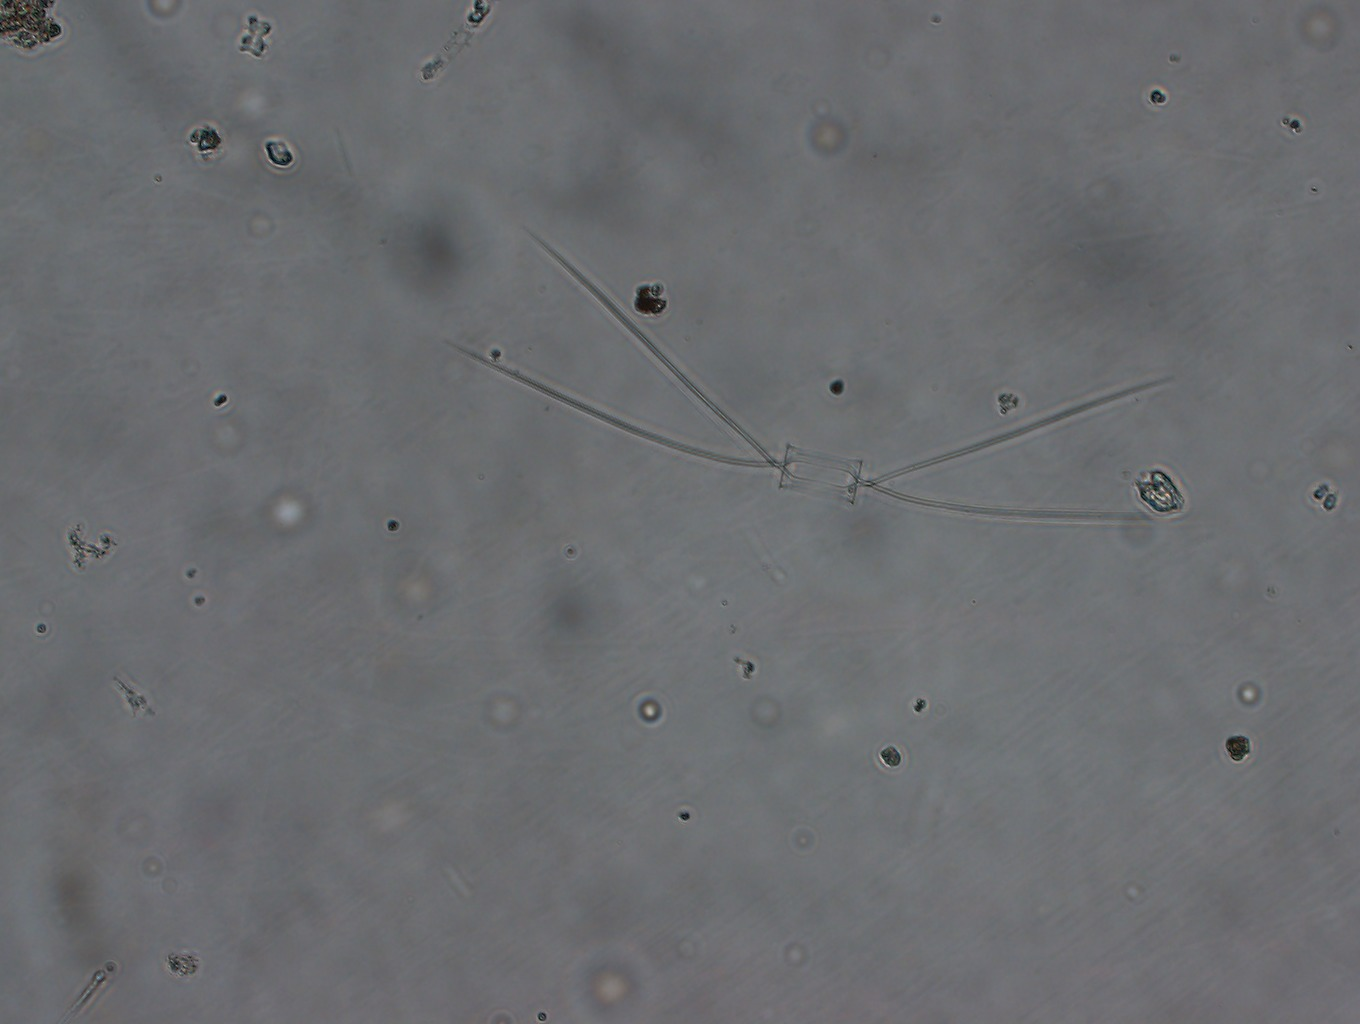chaetoceros: (445, 211, 1179, 543)
